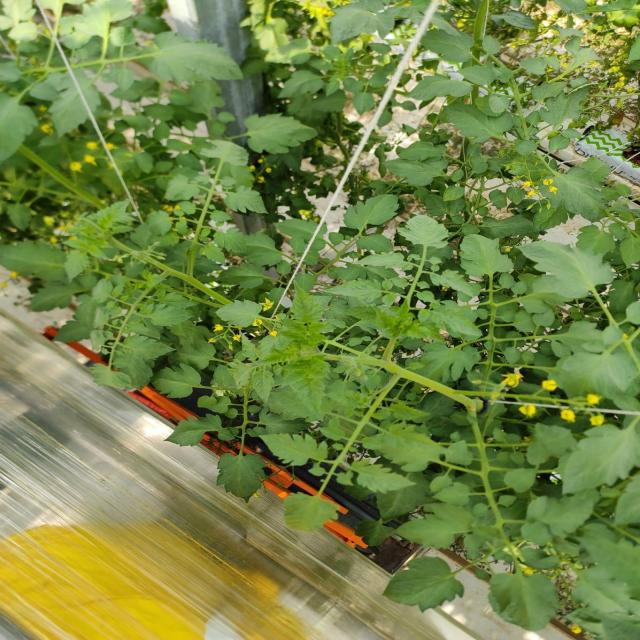T_L_H: (523, 242, 614, 299), (218, 455, 267, 502), (461, 235, 513, 277), (345, 195, 399, 231), (401, 215, 449, 249), (335, 283, 376, 301)
T_S_H: (326, 341, 483, 412), (108, 237, 232, 305)
